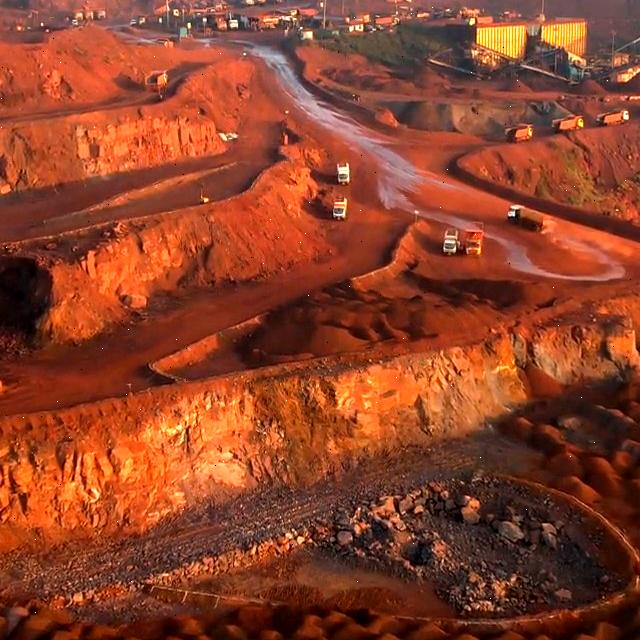Dumper truck: (552, 118, 592, 133), (504, 124, 532, 142), (146, 69, 168, 88), (595, 112, 627, 124)
car: (329, 194, 346, 219), (443, 228, 459, 254), (335, 163, 350, 184)
